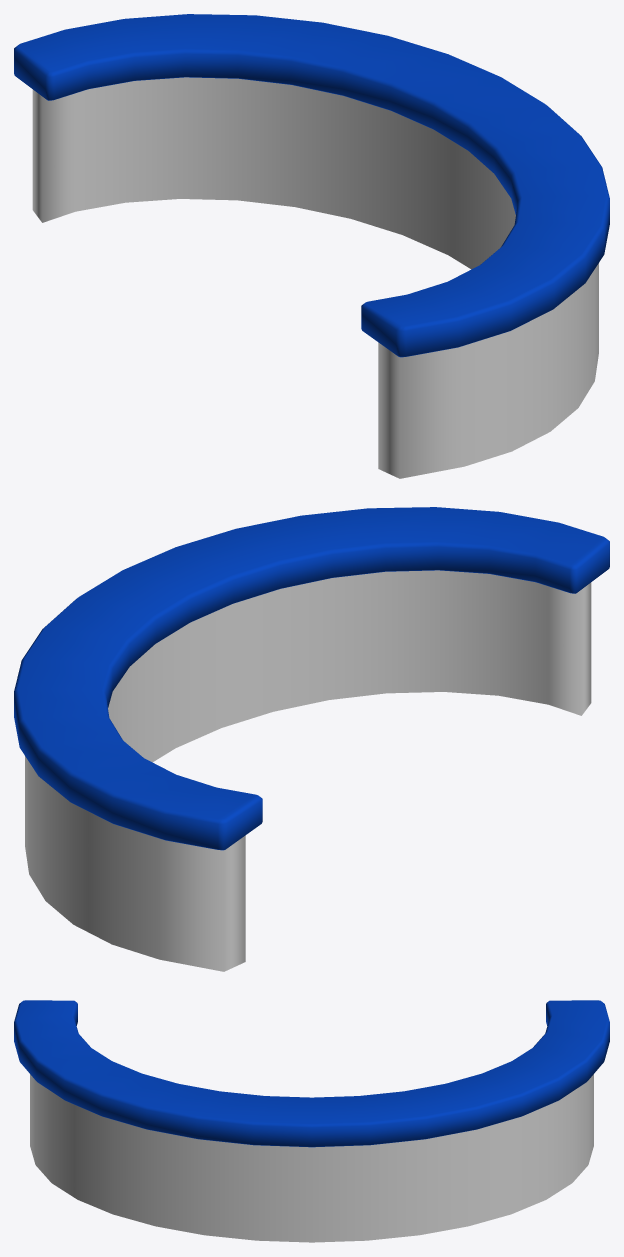
Rendered from SM_HUB_Desk.fbx.
3 renders of one model, top to bottom at view 1: azimuth 30°, elevation 25°; view 2: azimuth 150°, elevation 25°; view 3: azimuth 270°, elevation 25°, orthographic. The views are drawn at different scales.
Visible parts, largest first — view 1: SM_HUB_Desk; view 2: SM_HUB_Desk; view 3: SM_HUB_Desk.
Part boxes in pixels (x1=…): SM_HUB_Desk: x1=14, y1=14, x2=609, y2=478; SM_HUB_Desk: x1=14, y1=507, x2=609, y2=971; SM_HUB_Desk: x1=14, y1=1000, x2=609, y2=1242.
Size of the model in its own units: 505 by 225 by 1004.
